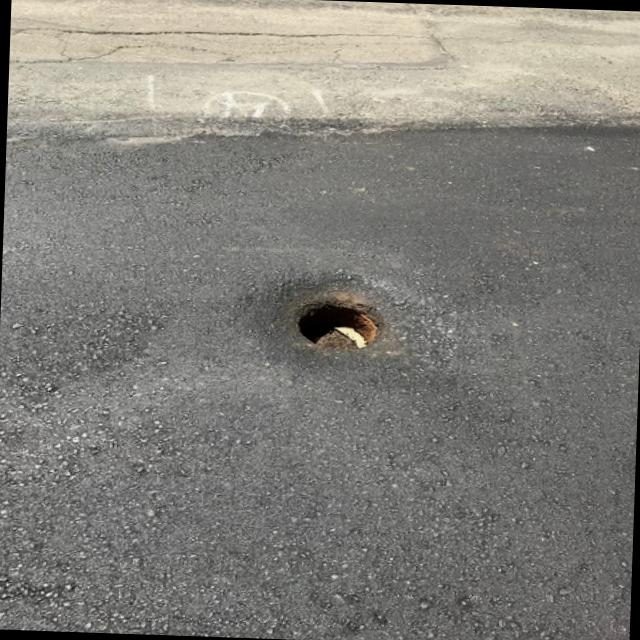bad-road: (286, 291, 388, 354)
